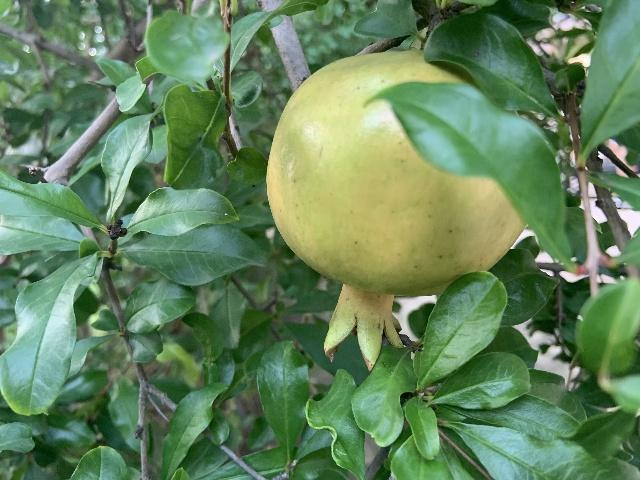mid-growth: (265, 49, 528, 373)
